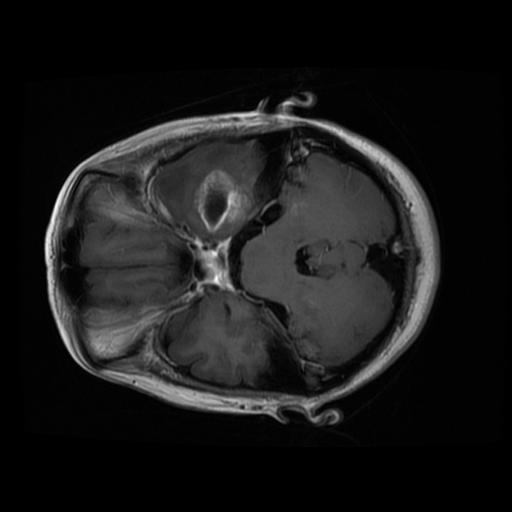glioma: (182, 165, 254, 239)
